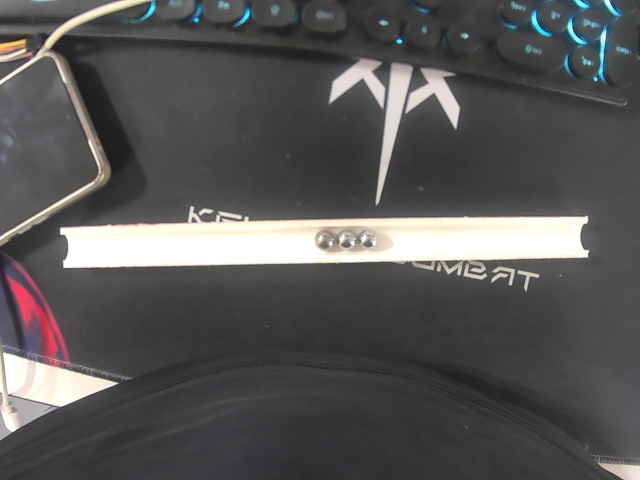steelball: (335, 228, 358, 250), (358, 227, 380, 250), (313, 229, 336, 250)
